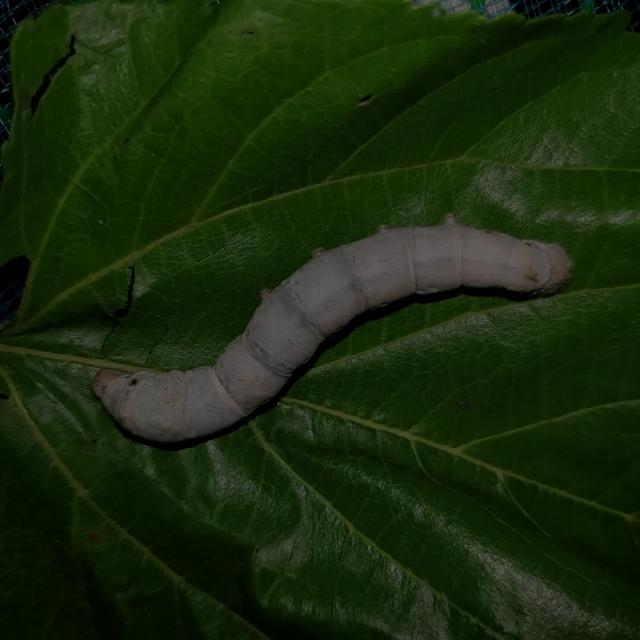Healthy: (70, 202, 578, 458)
